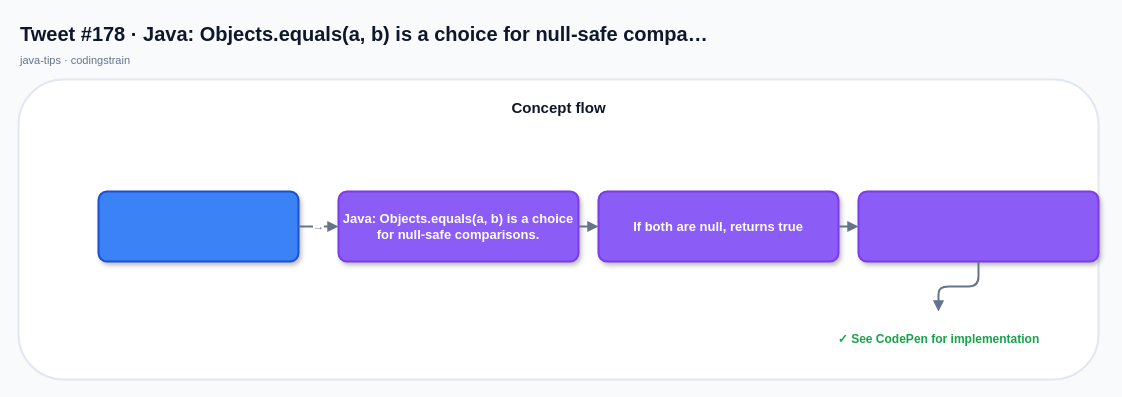
This 1122x397 diagram has some shape labels left out. Each missing label, with the centre of its shape:
If one is null, returns false: the point at 979,227
Problem / context: the point at 199,227
